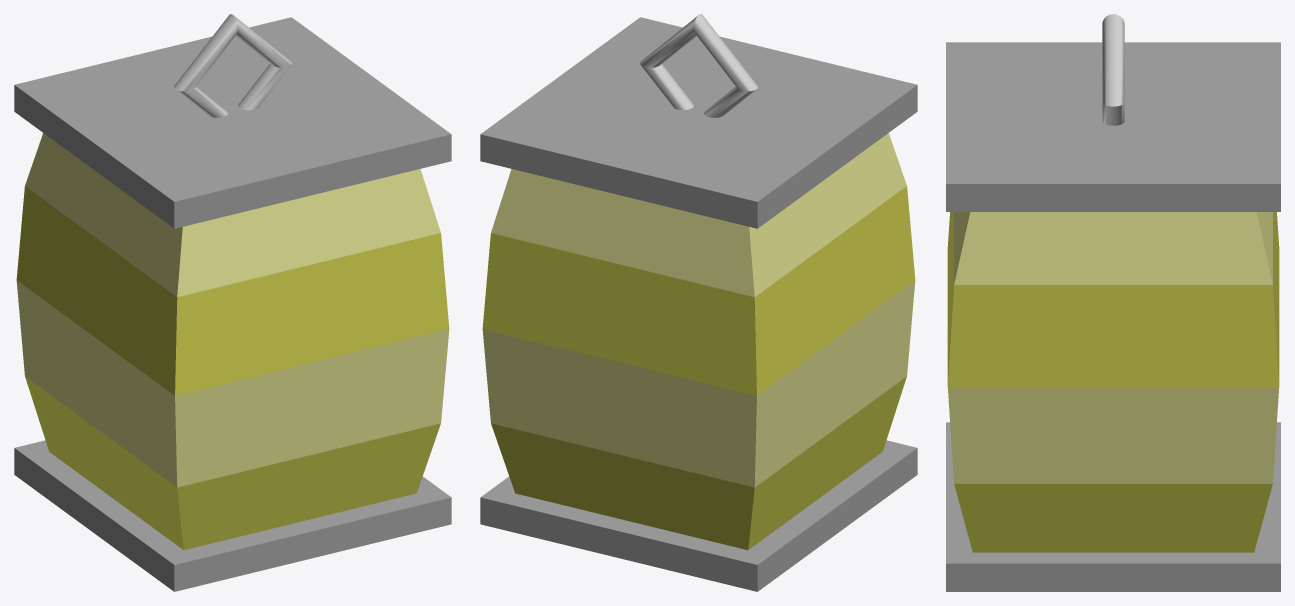
File: lightmare 1.fbx
The picture shows the model from 3 angles, left to right: view 1: azimuth 30°, elevation 25°; view 2: azimuth 150°, elevation 25°; view 3: azimuth 270°, elevation 25°; orthographic projection. The views are drawn at different scales.
Visible parts, largest first — view 1: Куб, Cube_001, Cube, Объект_Тор; view 2: Куб, Cube_001, Cube, Объект_Тор; view 3: Куб, Cube_001, Cube, Объект_Тор.
Boxes of the visible parts, left/top/right/bottom form: Куб: left=16, top=133, right=449, bottom=549; Cube_001: left=14, top=17, right=451, bottom=228; Cube: left=14, top=440, right=451, bottom=591; Объект_Тор: left=174, top=14, right=291, bottom=117; Куб: left=482, top=133, right=915, bottom=549; Cube_001: left=480, top=17, right=917, bottom=228; Cube: left=480, top=440, right=917, bottom=591; Объект_Тор: left=640, top=14, right=757, bottom=117; Куб: left=947, top=212, right=1279, bottom=552; Cube_001: left=946, top=42, right=1280, bottom=211; Cube: left=946, top=422, right=1280, bottom=591; Объект_Тор: left=1102, top=14, right=1124, bottom=125.
Bounding box in the file's own units: 200 × 334 × 200.
